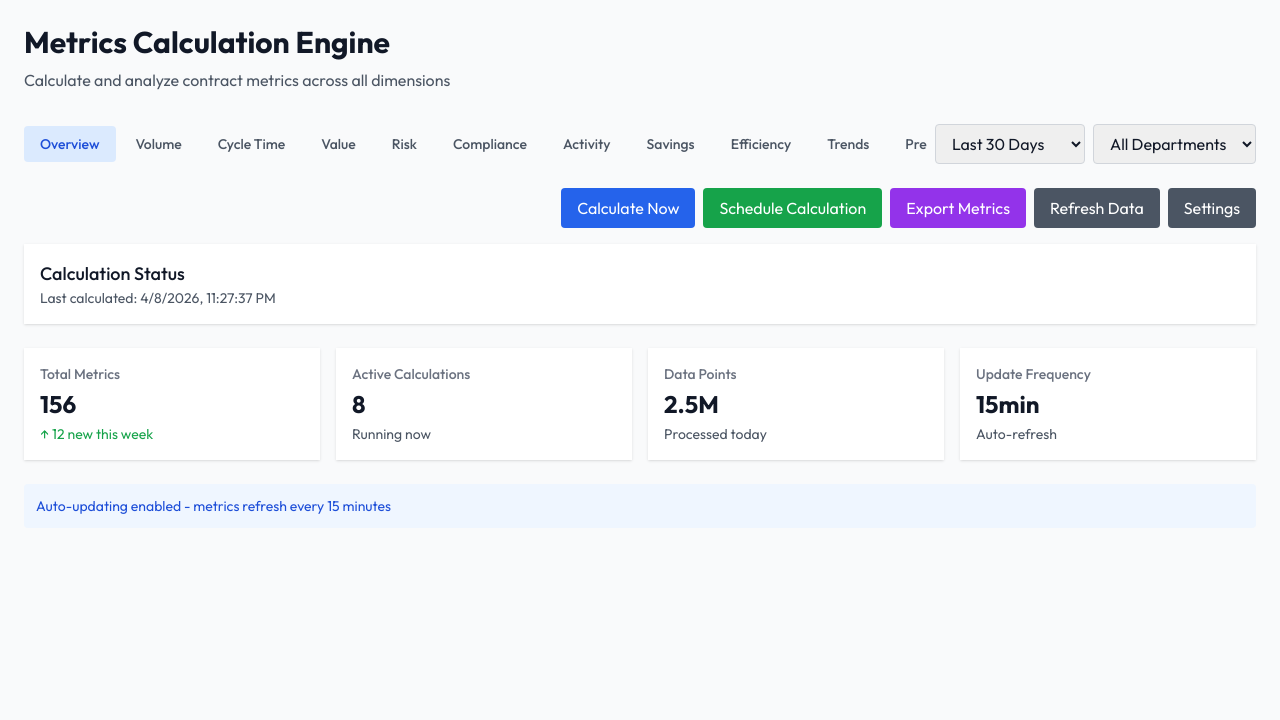
Scenario: MetricsCalculationEngine › Contract Volume Metrics › should display volume by category
The image size is (1280, 720).
Click the tab "Volume".
click(159, 144)  # box [120,126,198,162]
(page scrolled)
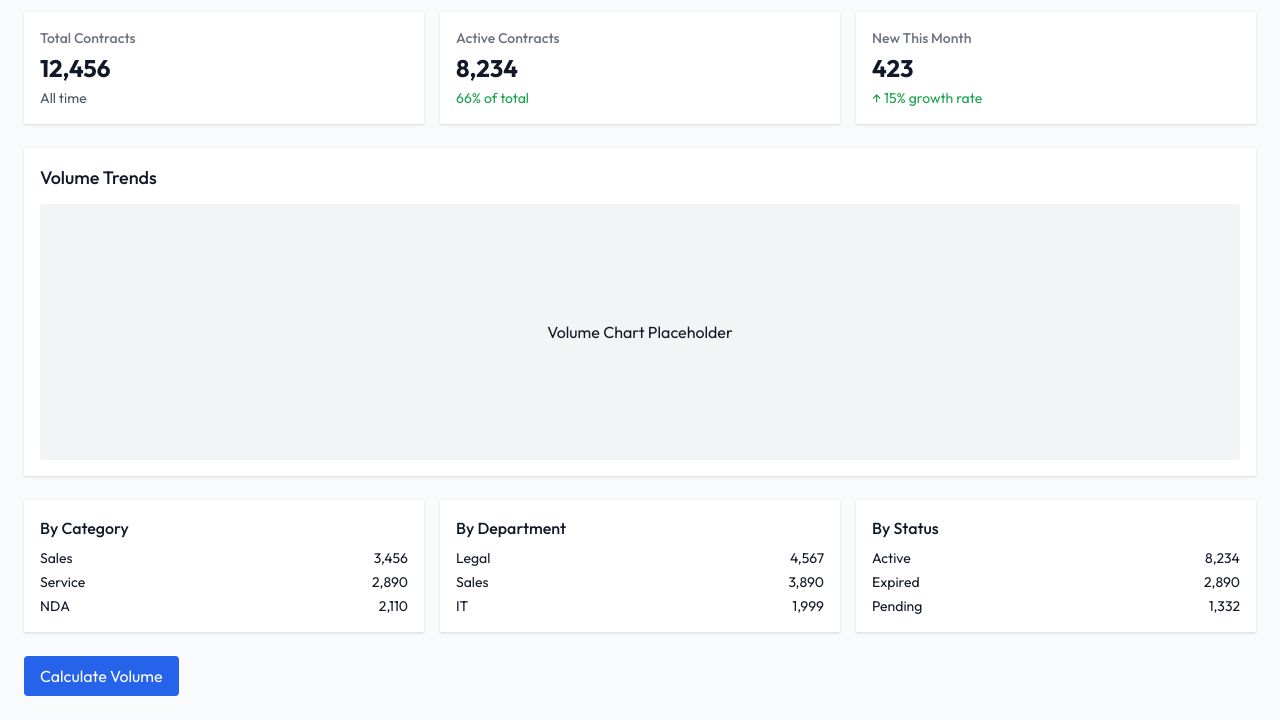
Result: the heading "By Category" is shown at [40,518,129,538]
Result: the heading "By Department" is shown at [456,518,566,538]
Result: the heading "By Status" is shown at [872,518,939,538]
